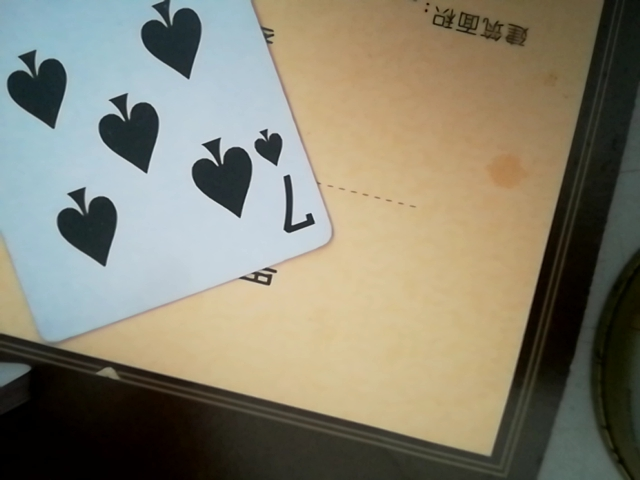ht 7: (0, 0, 340, 356)
